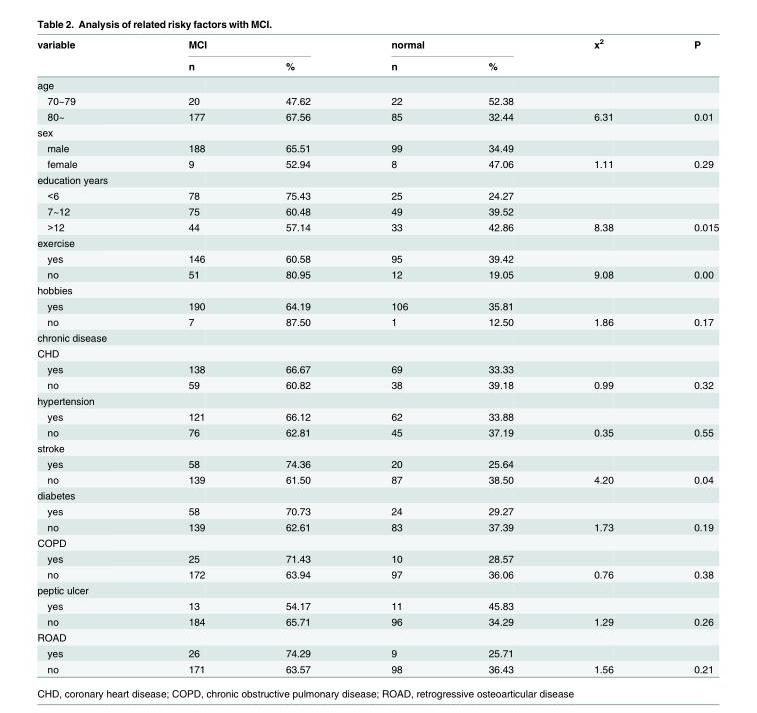table: (36, 36, 718, 674)
table column: (36, 36, 147, 674), (244, 36, 350, 674), (447, 36, 553, 674), (553, 36, 653, 674), (147, 36, 244, 674), (350, 36, 447, 674), (653, 36, 718, 674)
table column header: (36, 36, 718, 75)
table projected row header: (36, 75, 718, 92), (36, 171, 718, 187), (36, 234, 718, 250), (36, 281, 718, 297), (36, 329, 718, 345), (36, 392, 718, 408), (36, 439, 718, 455), (36, 534, 718, 550), (36, 581, 718, 597), (36, 124, 718, 139), (36, 345, 718, 360), (36, 487, 718, 502), (36, 629, 718, 644)
table row: (36, 54, 718, 75), (36, 36, 718, 54), (36, 75, 718, 92), (36, 92, 718, 108), (36, 108, 718, 124), (36, 139, 718, 155), (36, 155, 718, 171), (36, 171, 718, 187), (36, 202, 718, 218), (36, 218, 718, 234), (36, 234, 718, 250), (36, 250, 718, 266), (36, 281, 718, 297), (36, 297, 718, 313), (36, 313, 718, 329), (36, 329, 718, 345), (36, 360, 718, 376), (36, 376, 718, 392), (36, 392, 718, 408), (36, 423, 718, 439), (36, 439, 718, 455), (36, 455, 718, 471), (36, 471, 718, 487), (36, 502, 718, 518), (36, 518, 718, 534), (36, 534, 718, 550), (36, 565, 718, 581), (36, 581, 718, 597), (36, 597, 718, 613), (36, 613, 718, 629), (36, 644, 718, 660), (36, 124, 718, 139), (36, 187, 718, 202), (36, 266, 718, 281), (36, 345, 718, 360), (36, 408, 718, 423), (36, 487, 718, 502), (36, 550, 718, 565), (36, 629, 718, 644), (36, 660, 718, 674)
table spanning cell: (36, 36, 147, 75), (553, 36, 653, 75), (147, 36, 350, 54), (350, 36, 553, 54), (653, 36, 718, 75)
